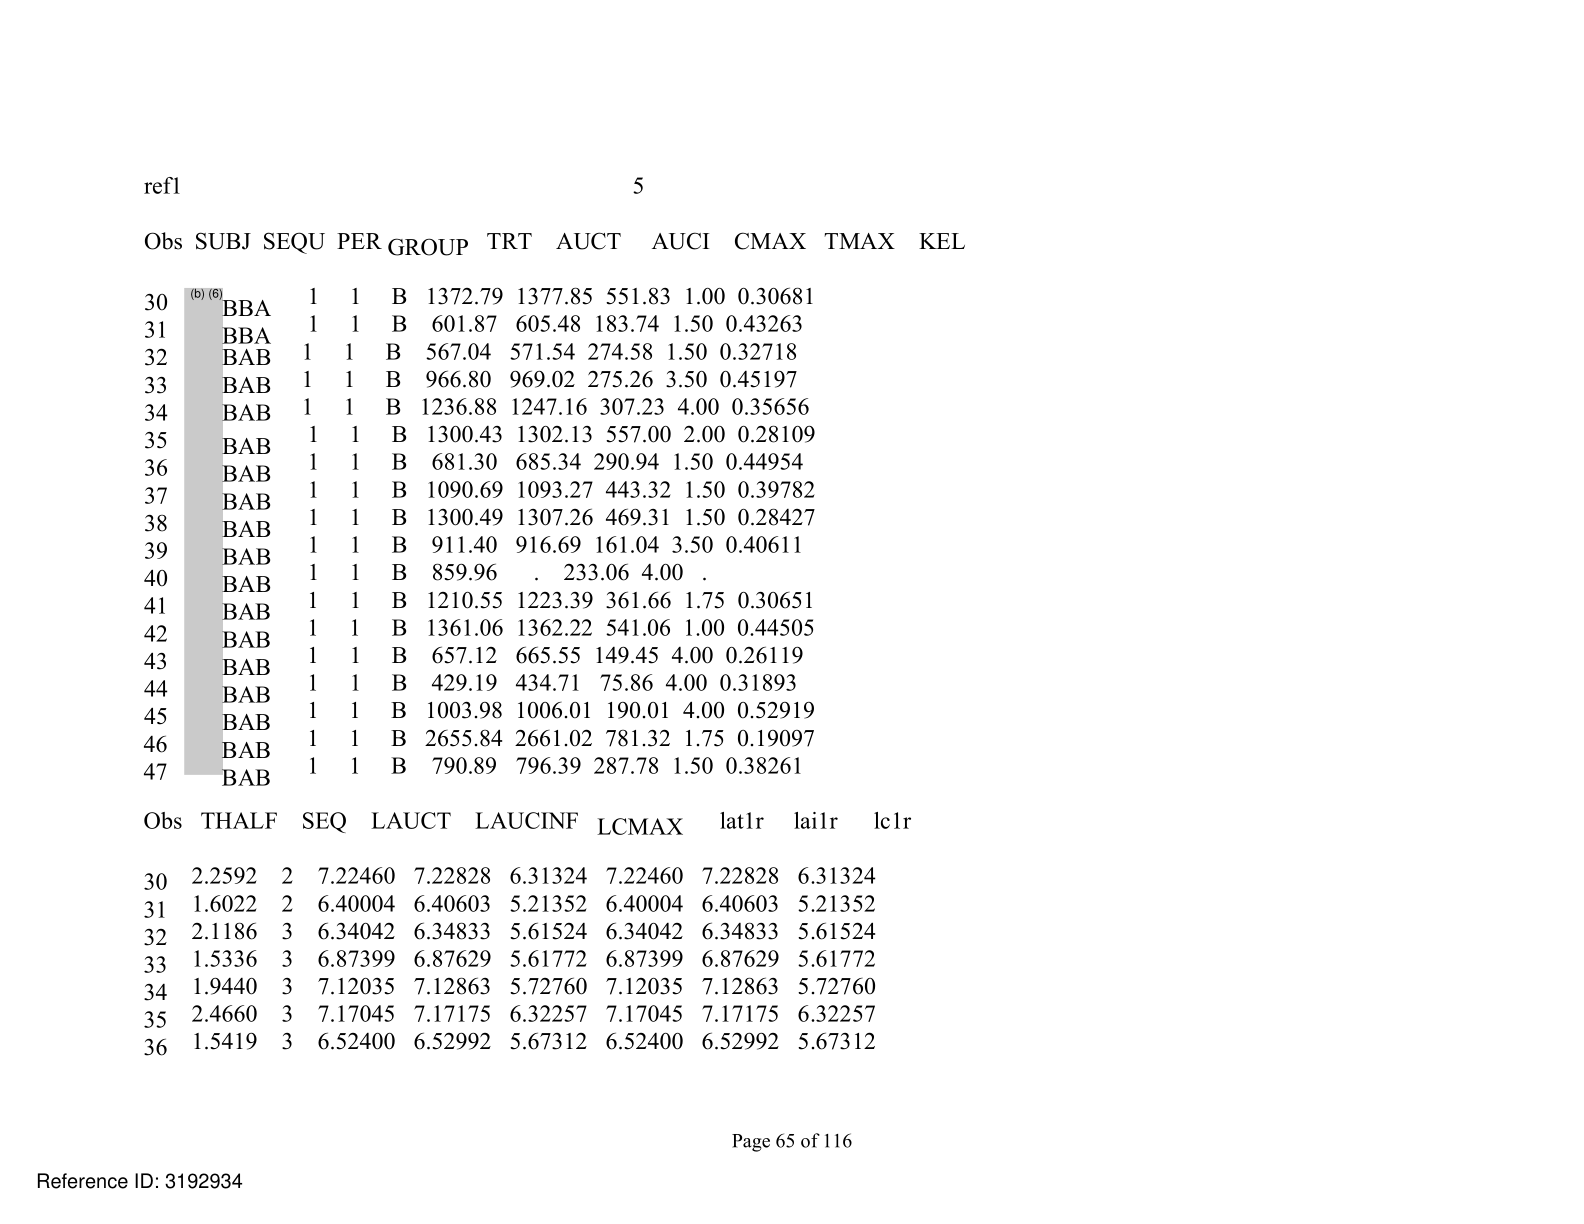nolines: (140, 229, 969, 786), (141, 809, 912, 1057)
